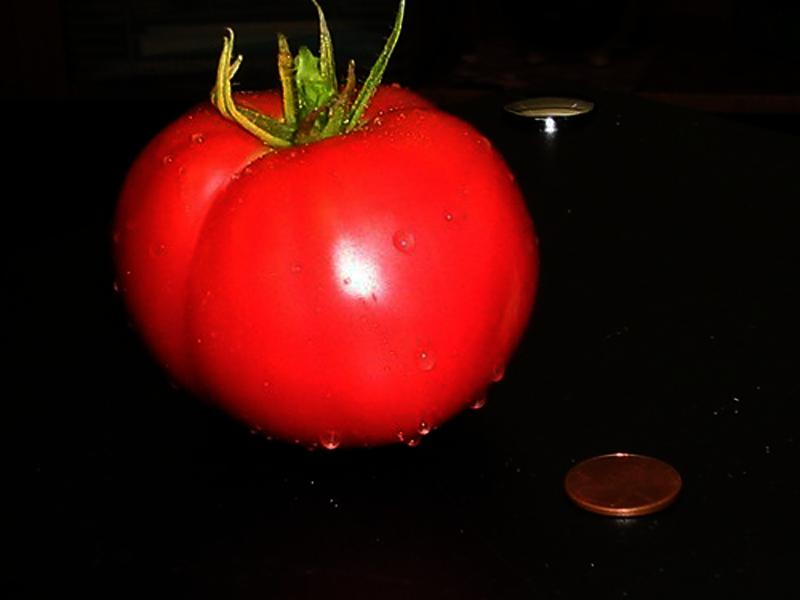Tomato: (108, 82, 538, 450)
